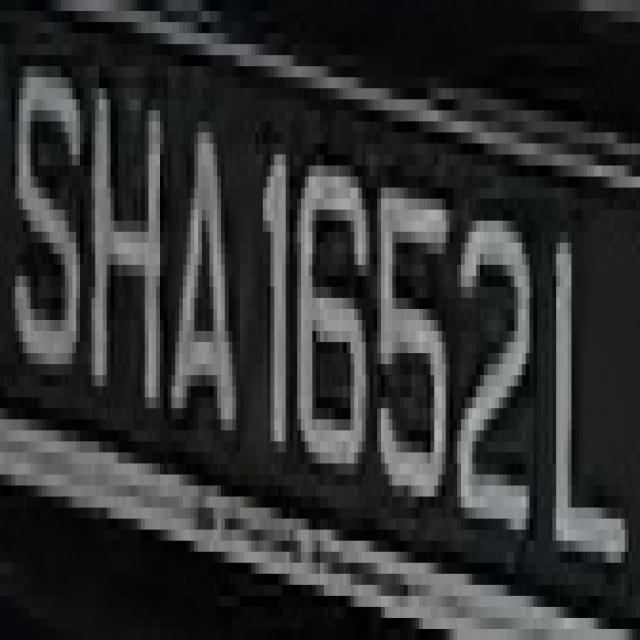1: (248, 143, 293, 508)
2: (449, 144, 534, 540)
5: (373, 155, 457, 530)
6: (286, 132, 370, 518)
A: (164, 89, 244, 452)
H: (84, 78, 171, 464)
L: (537, 188, 625, 618)
S: (8, 33, 92, 430)
